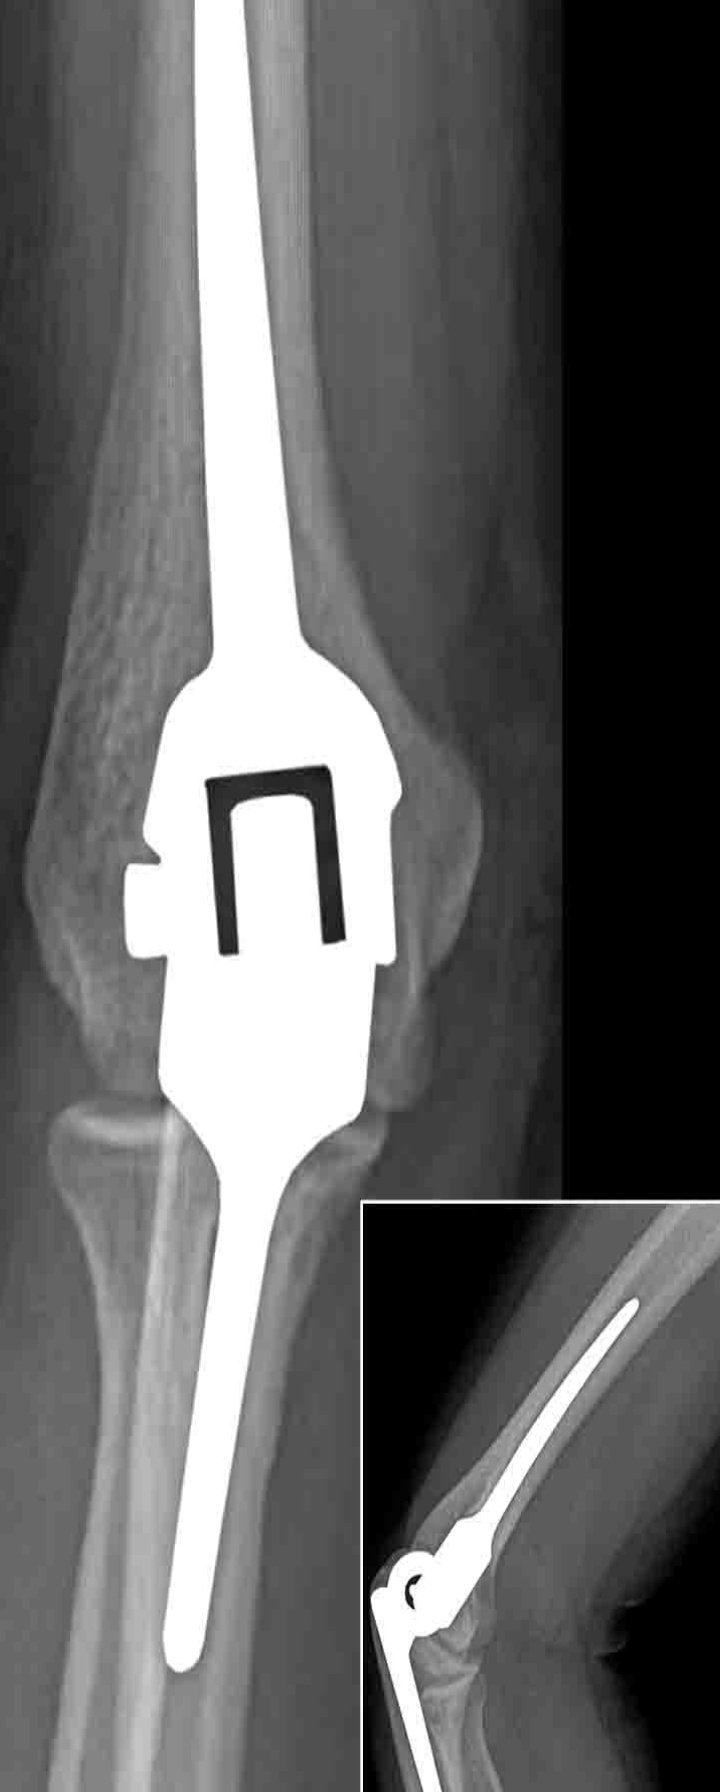Elbow - Osteonics - Stryker: (72, 2, 418, 1531), (368, 1286, 679, 1791)
